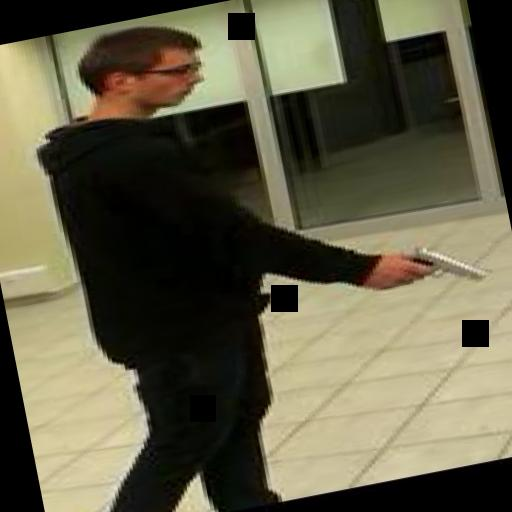Handgun: (370, 230, 490, 298)
